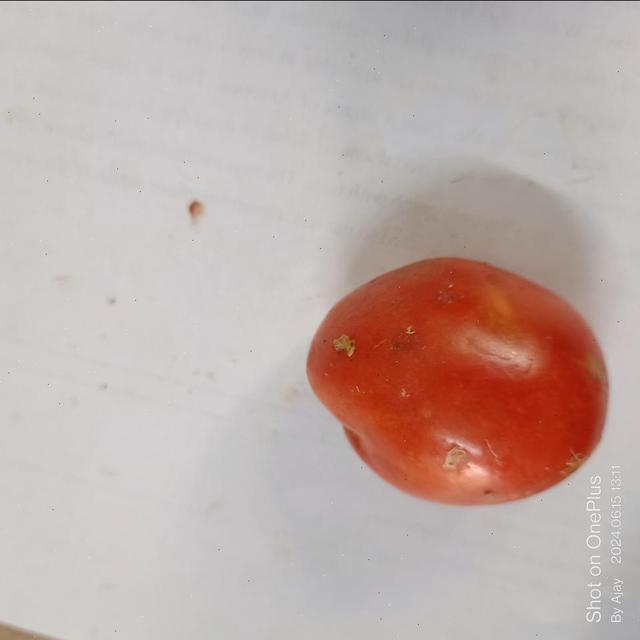Bacterial Spot Fruit: (220, 218, 242, 238)
